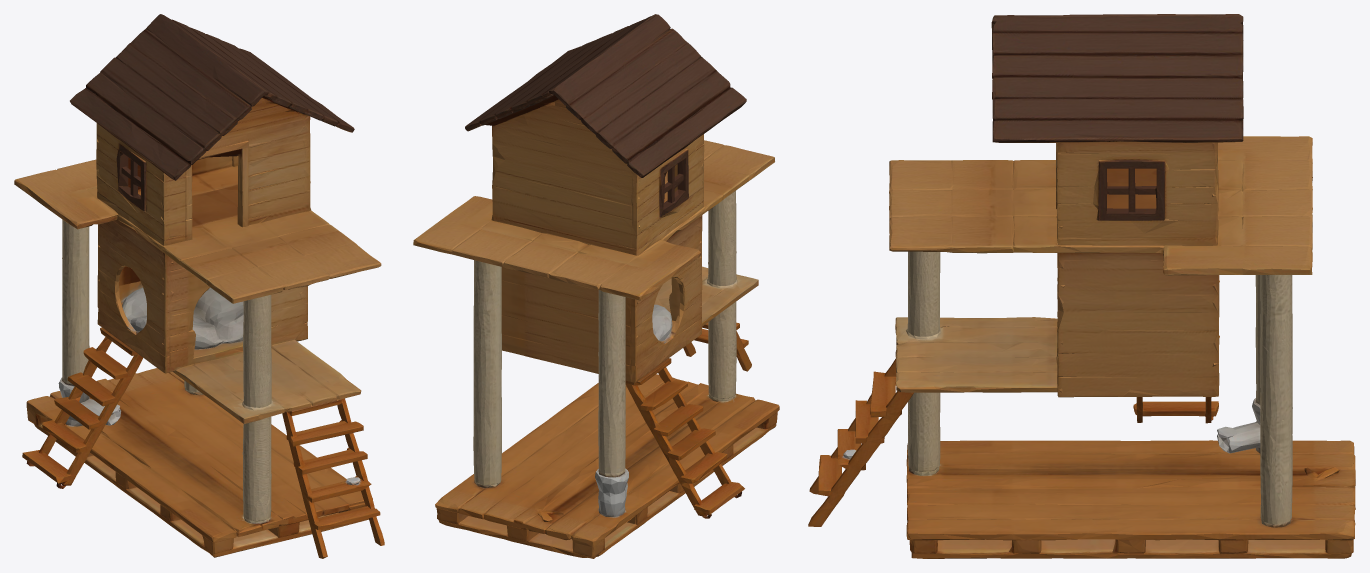
Rendered from DOM_kotik_4__second.glb.
3 renders of one model, left to right at view 1: azimuth 30°, elevation 25°; view 2: azimuth 150°, elevation 25°; view 3: azimuth 270°, elevation 25°, orthographic. The views are drawn at different scales.
Visible parts, largest first — view 1: tripo_node_d50f0e9b-f207-4178-975e-82a5e4044c8c; view 2: tripo_node_d50f0e9b-f207-4178-975e-82a5e4044c8c; view 3: tripo_node_d50f0e9b-f207-4178-975e-82a5e4044c8c.
Part boxes in pixels (x1,y1,x2,y2): tripo_node_d50f0e9b-f207-4178-975e-82a5e4044c8c: [14, 14, 384, 558]; tripo_node_d50f0e9b-f207-4178-975e-82a5e4044c8c: [413, 14, 779, 558]; tripo_node_d50f0e9b-f207-4178-975e-82a5e4044c8c: [808, 14, 1355, 558].
Bounding box in the file's own units: 0.6438 × 1 × 0.9839.
1 material, 1 textured.
